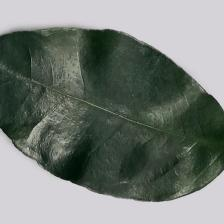healthy: (7, 25, 195, 168)
